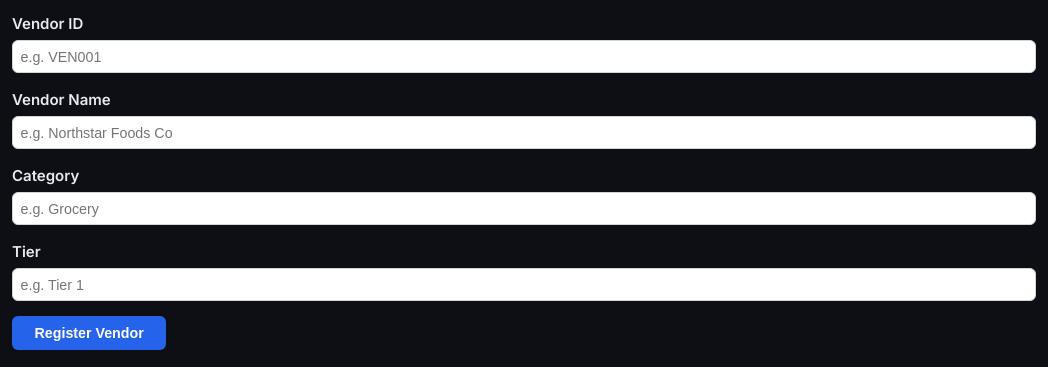
Test: VendorRegisterForm › disables submit button while submitting
Type "VEN001" into the field labelled "Vendor ID" at (524, 56), box [12,40,1036,73]
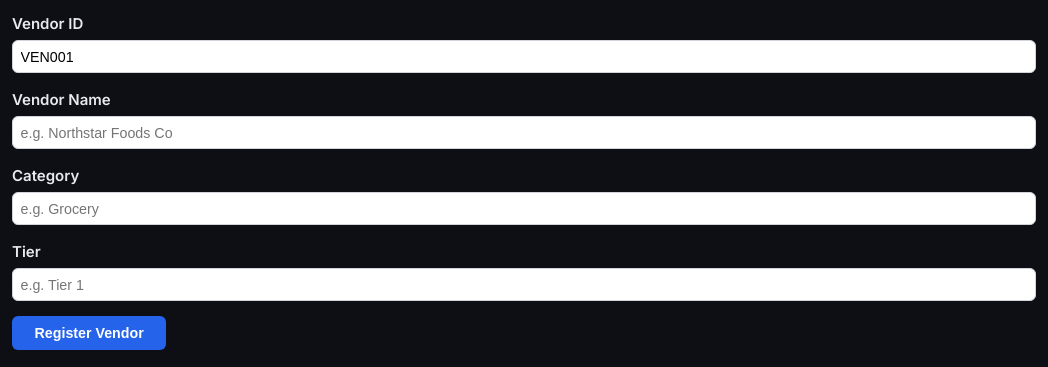
Type "Northstar" into the field labelled "Vendor Name" at (524, 132), box [12,116,1036,149]
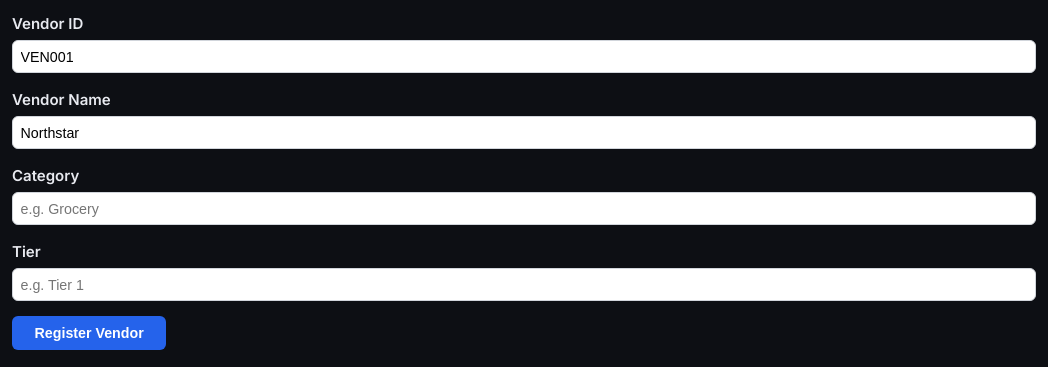
Type "Grocery" into the field labelled "Category" at (524, 208), box [12,192,1036,225]
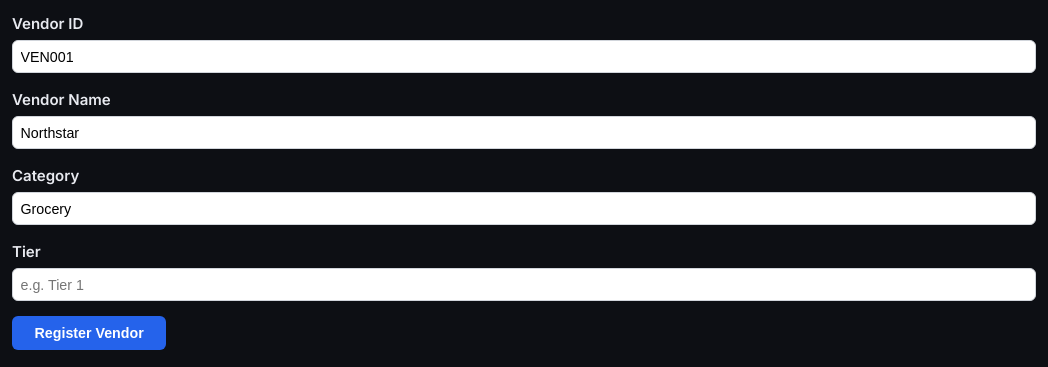
Type "Tier 1" into the field labelled "Tier" at (524, 284), box [12,268,1036,301]
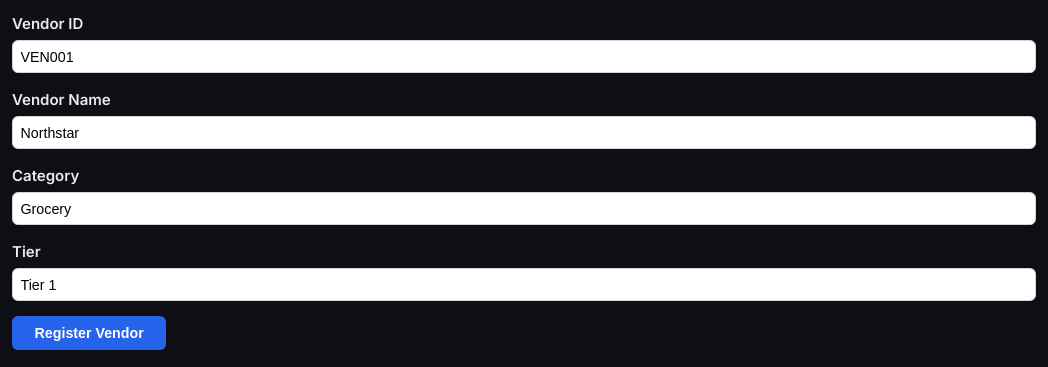
Click the button "Register Vendor" at (89, 333), box [12,316,166,350]
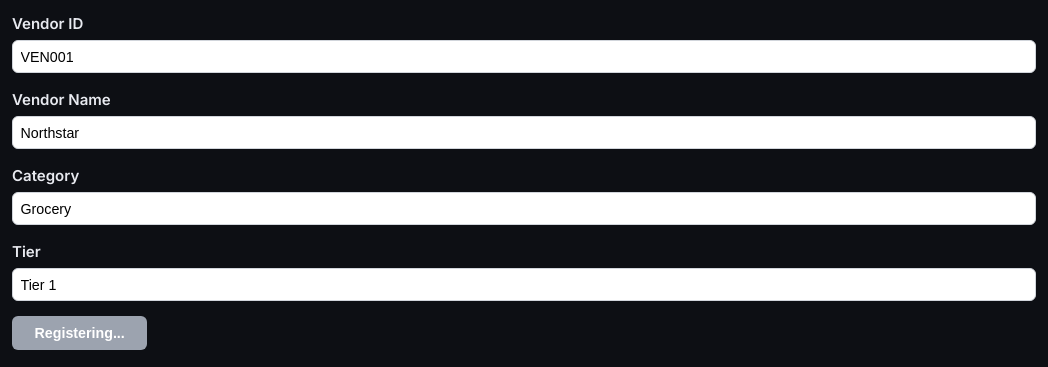
Check: the button "Registering..." is disabled, box [12,316,147,350]
